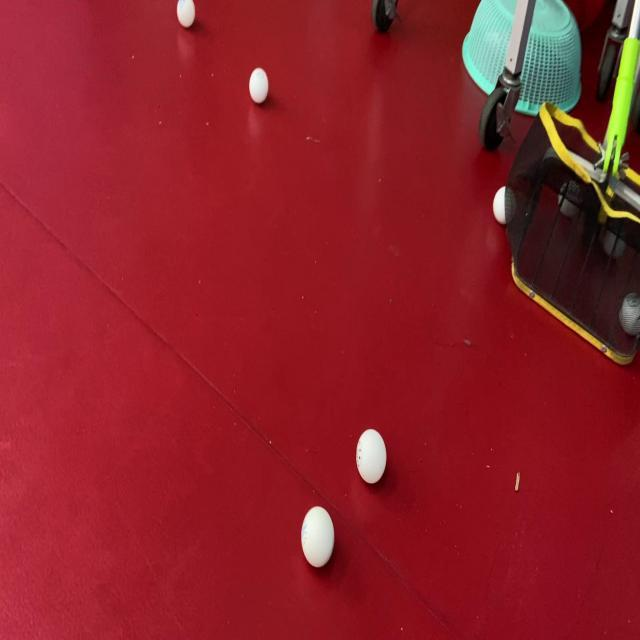ping-pong-ball: (300, 504, 336, 570), (354, 426, 388, 486), (248, 64, 270, 104), (176, 0, 197, 30)
